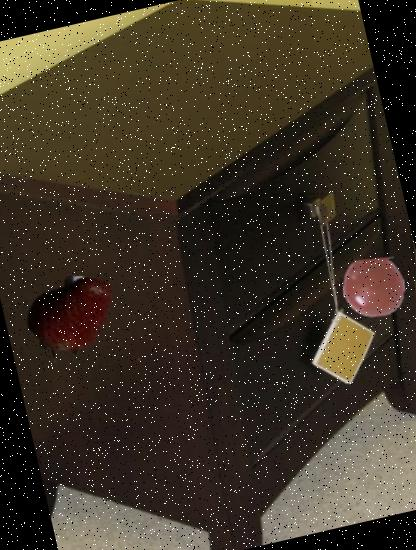Redcurrant: (337, 250, 411, 324)
Strawberry: (16, 266, 122, 372)
